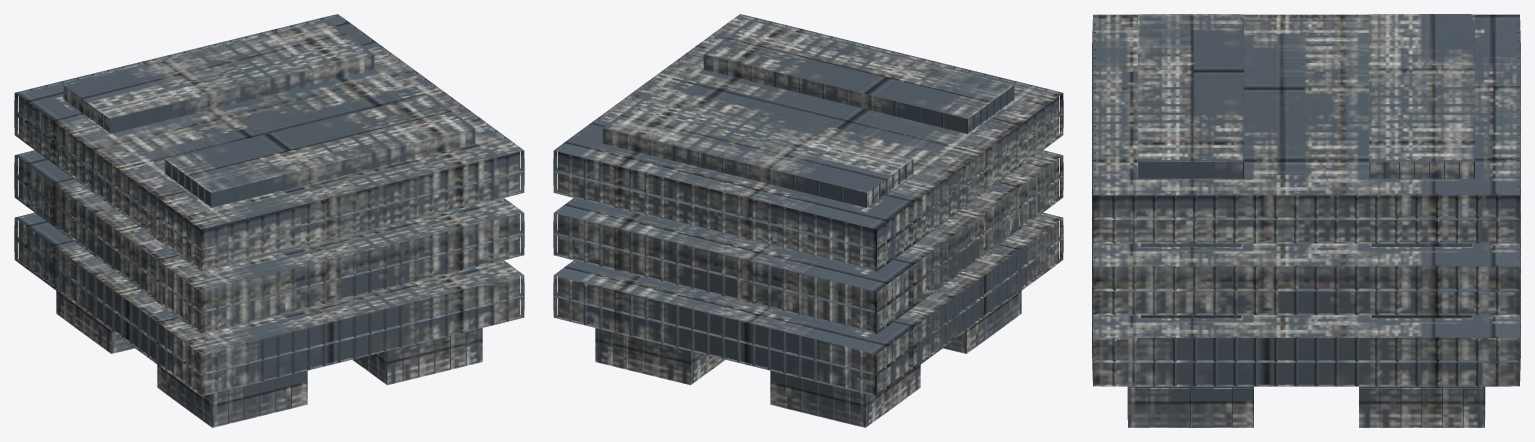
The model's file is TripleStack.fbx.
3 views of the same model, side by side, from view 1: azimuth 30°, elevation 25°; view 2: azimuth 150°, elevation 25°; view 3: azimuth 270°, elevation 25° (orthographic). The views are drawn at different scales.
Visible parts, largest first — view 1: Cube.014; view 2: Cube.014; view 3: Cube.014.
Part boxes in pixels (x1,y1,x2,y2): Cube.014: (14, 14, 524, 427); Cube.014: (553, 14, 1063, 427); Cube.014: (1092, 14, 1520, 427).
Bounding box in the file's own units: 225 × 153 × 225.
1 material, 1 textured.
